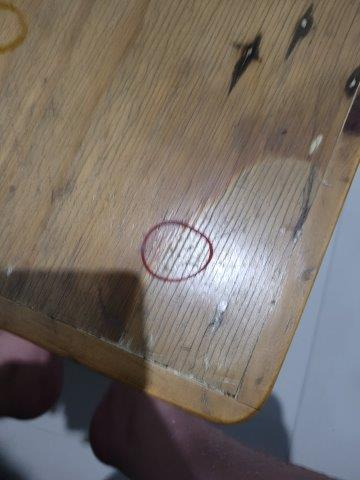karet: (143, 221, 213, 282), (1, 1, 29, 56)
